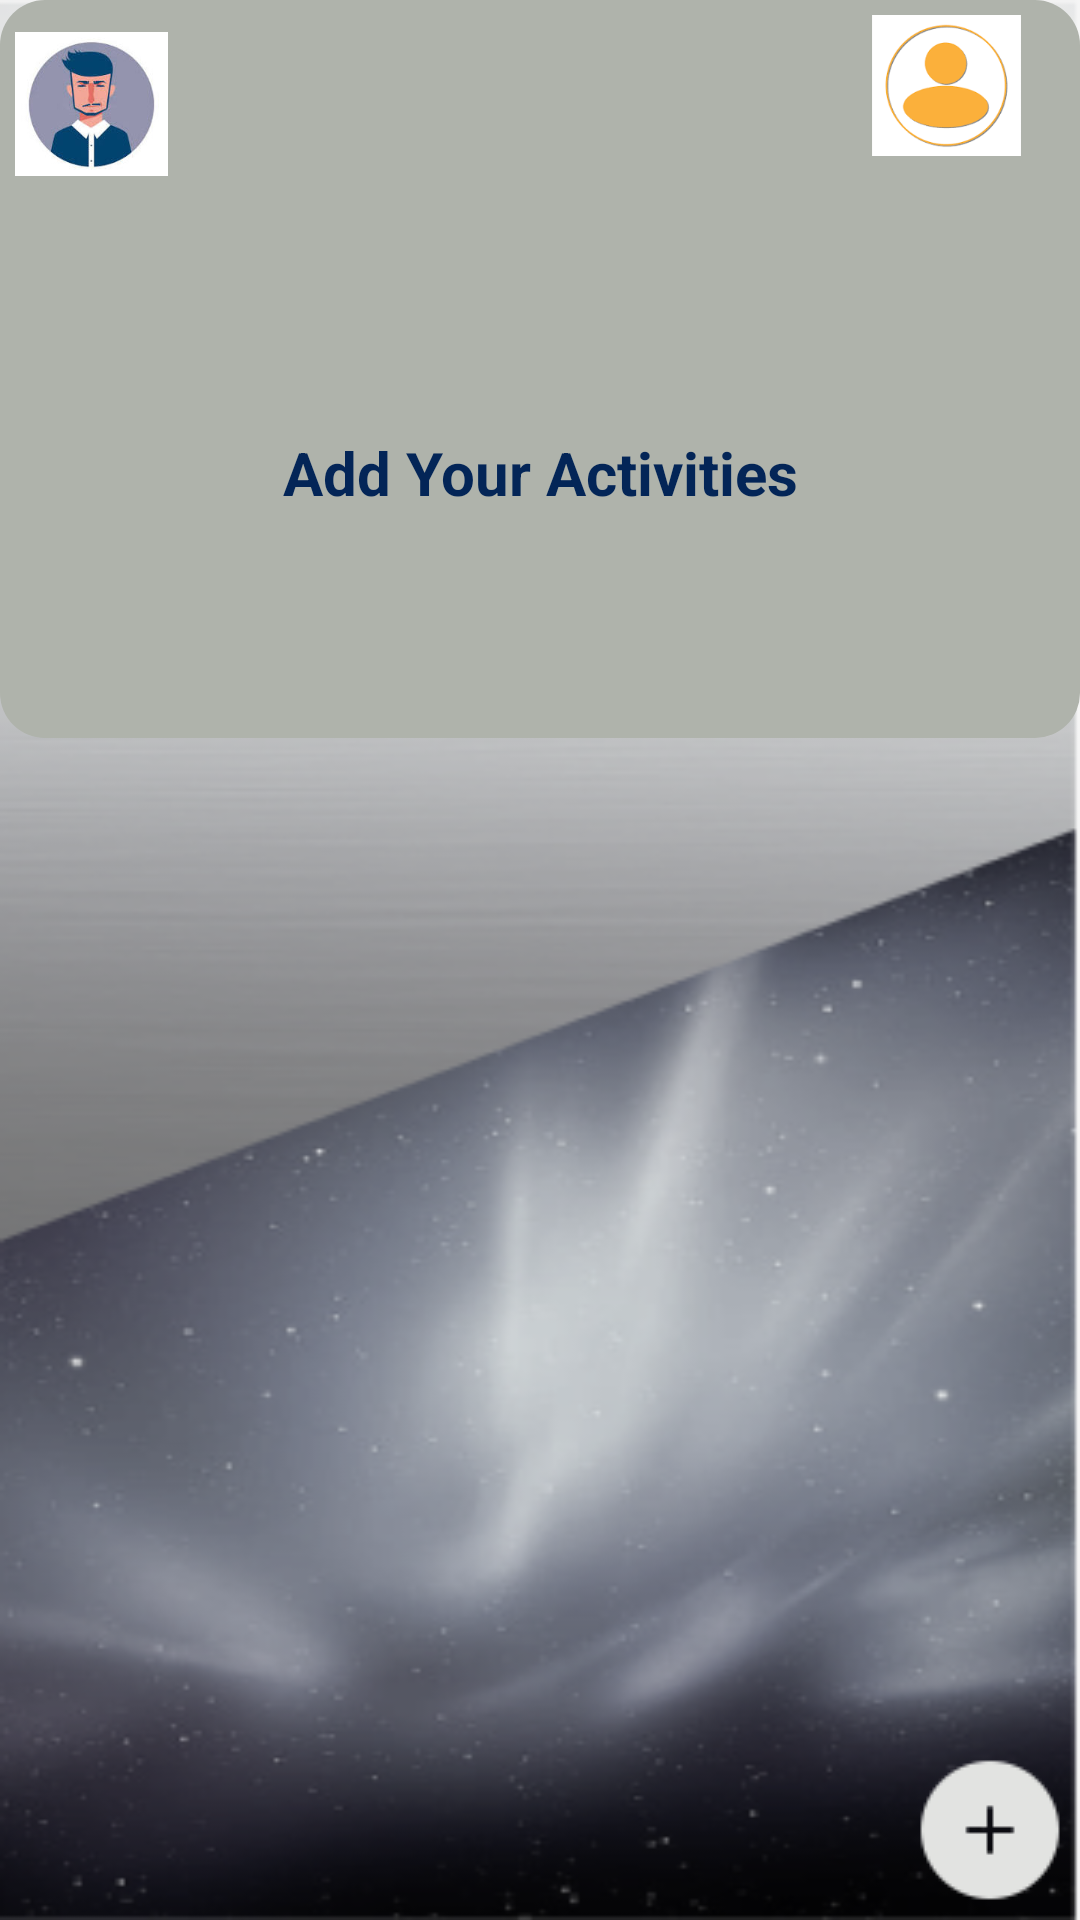

Locate icon controls on the screen. Image size 1080px x 1920px, boxes as (x1, y1, x2, y2).
add: (915, 1755, 1065, 1900)
